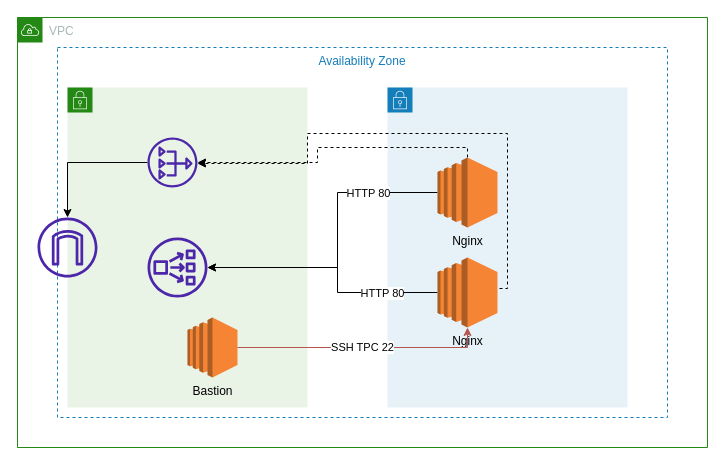
Image size: 725x465. Some labels were removed from this diagram. Here are the shapes that lost their labels. From the top down, the box of each, then its label:
(66, 86, 308, 408): Public subnet
(386, 86, 628, 408): Private subnet
